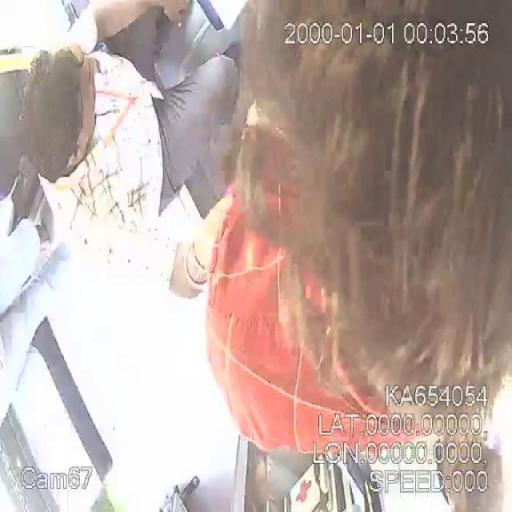persona: (204, 0, 511, 446), (11, 0, 240, 227)
